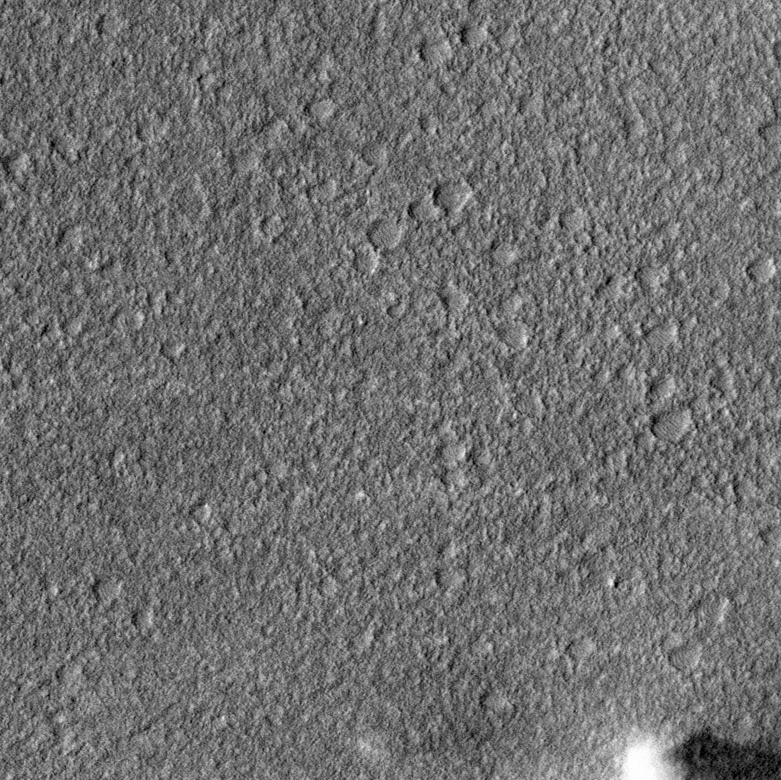dust_devil: (613, 722, 781, 780)
